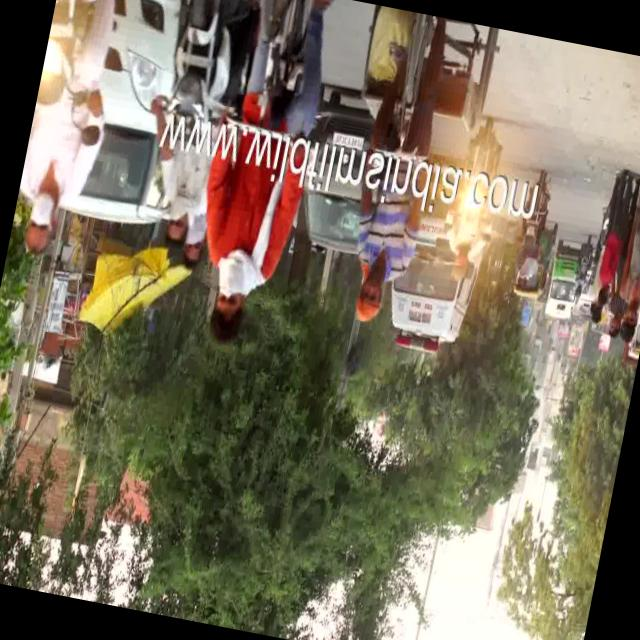ambulance: (381, 219, 459, 353)
